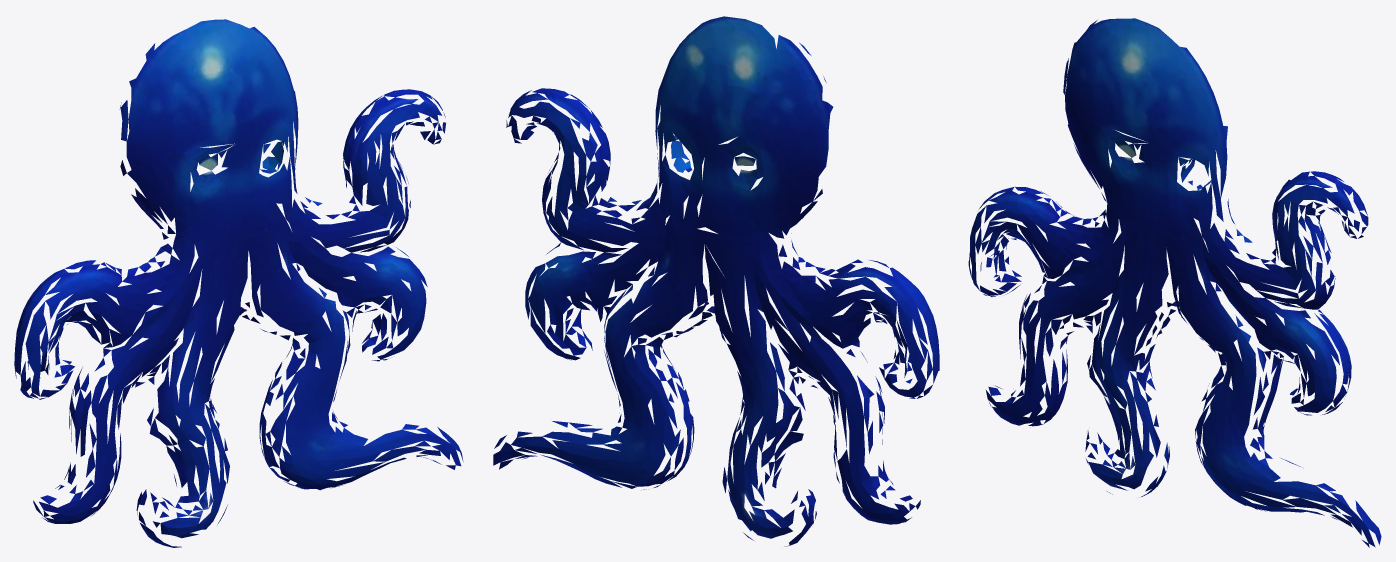
Rendered from octopus.glb.
3 views of the same model, side by side, from view 1: azimuth 30°, elevation 25°; view 2: azimuth 150°, elevation 25°; view 3: azimuth 330°, elevation 25° (orthographic). The views are drawn at different scales.
Parts seen in each view (by area): view 1: world; view 2: world; view 3: world.
Part boxes in pixels (x1=…): world: x1=14, y1=19, x2=463, y2=547; world: x1=493, y1=16, x2=939, y2=546; world: x1=968, y1=18, x2=1381, y2=547.
Size of the model in its own units: 0.8844 by 0.9909 by 0.0985.
1 material, 1 textured.
